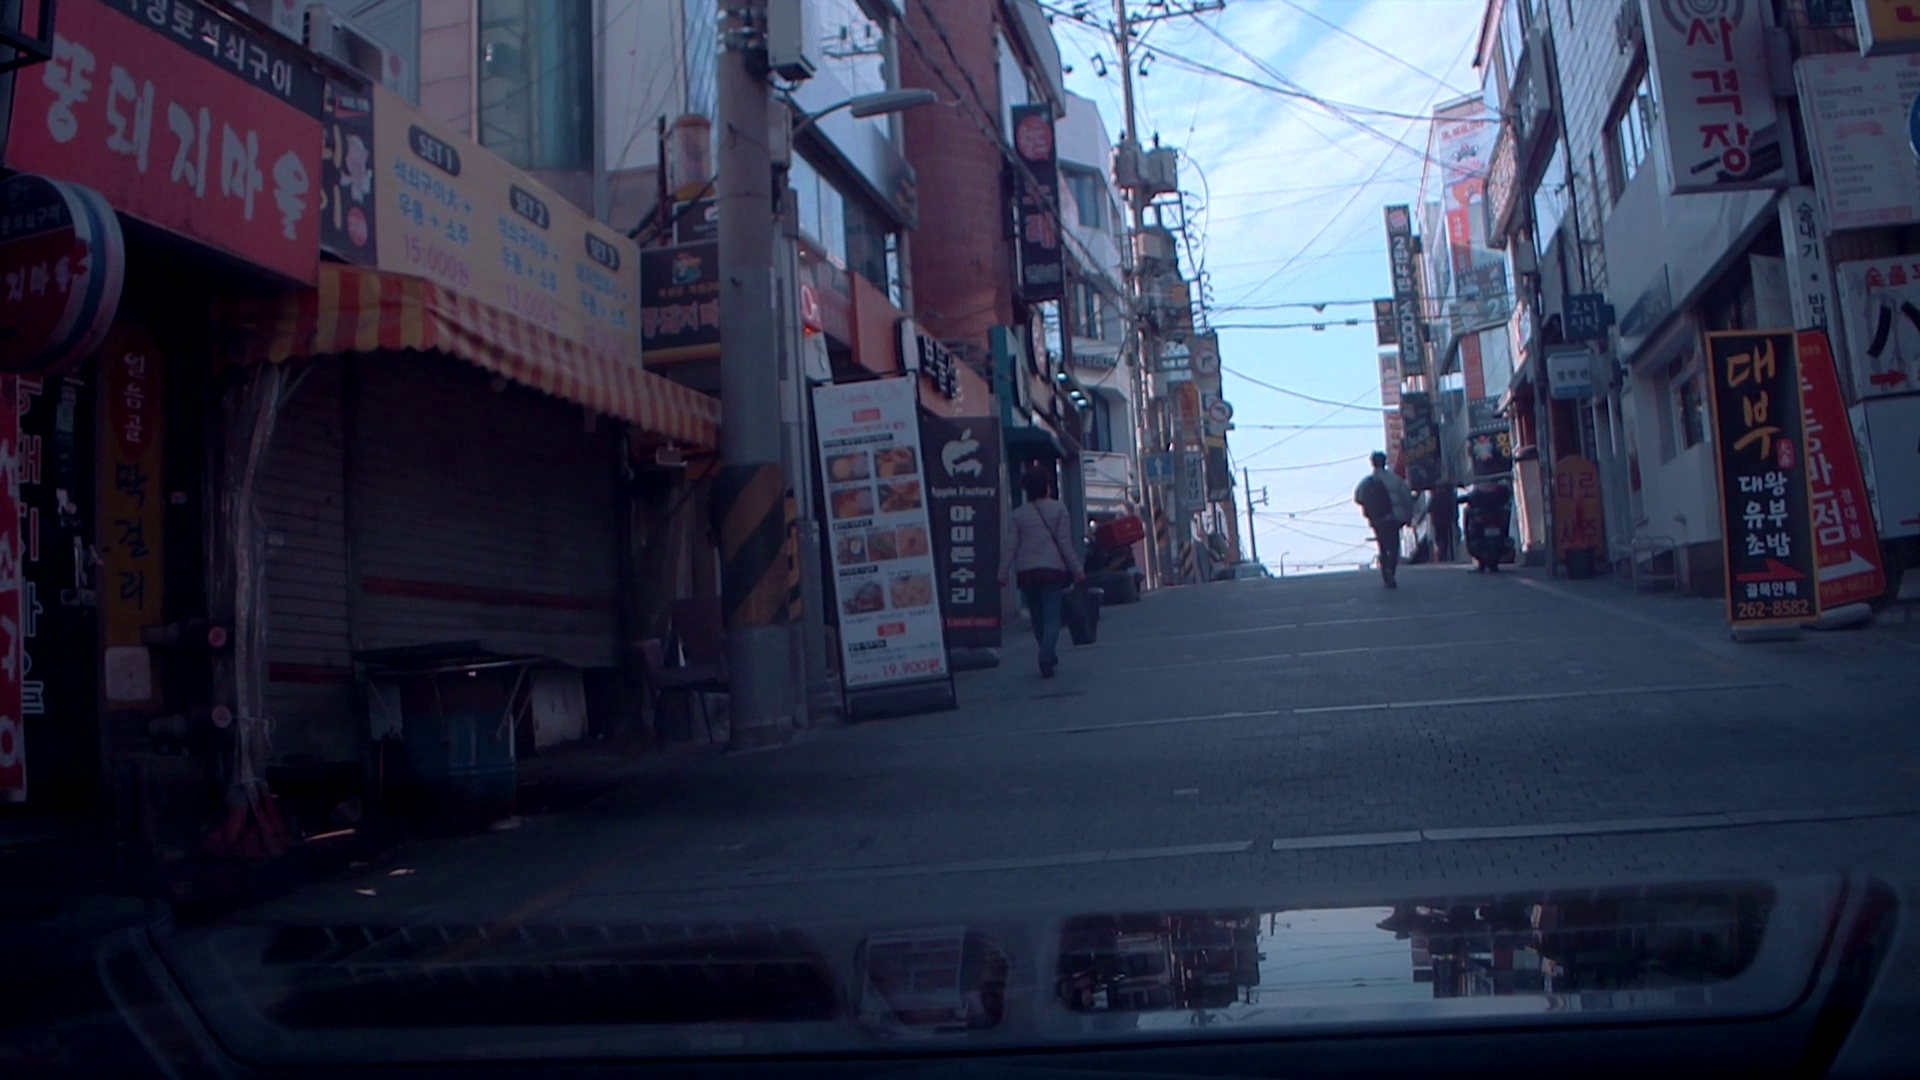trafficSignCircle: (1192, 349, 1222, 375), (1209, 397, 1234, 422)
